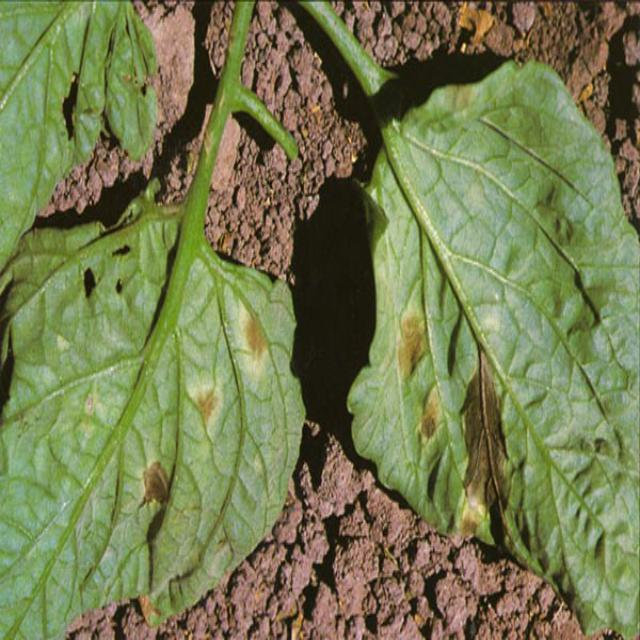Leaf_Mold: (451, 343, 516, 543), (386, 311, 438, 381), (134, 454, 182, 509), (232, 303, 268, 371), (185, 381, 226, 435), (411, 384, 445, 447)
